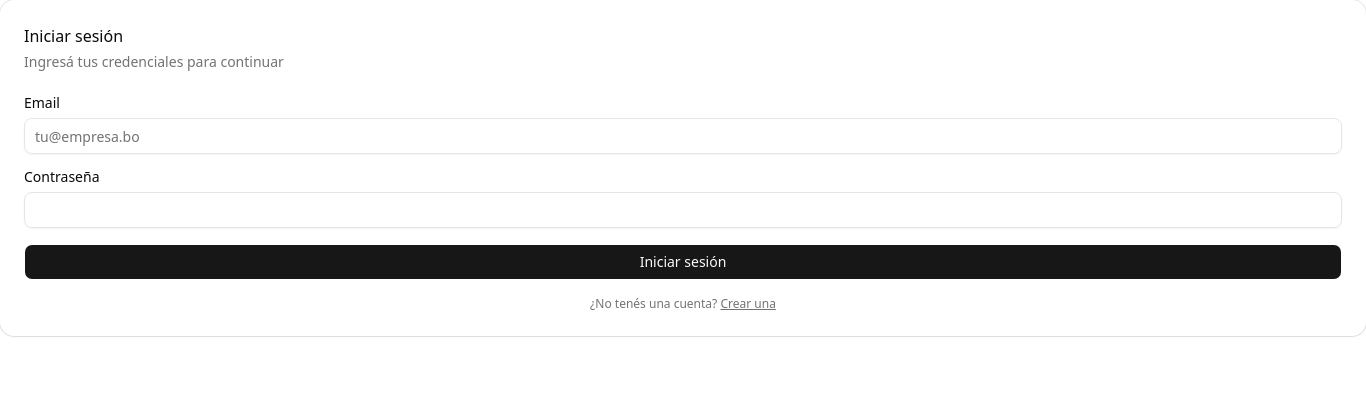
Test: LoginForm › muestra error de validación si el email está vacío
Click the button "Iniciar sesión".
click(683, 262)  # box [24, 244, 1342, 280]
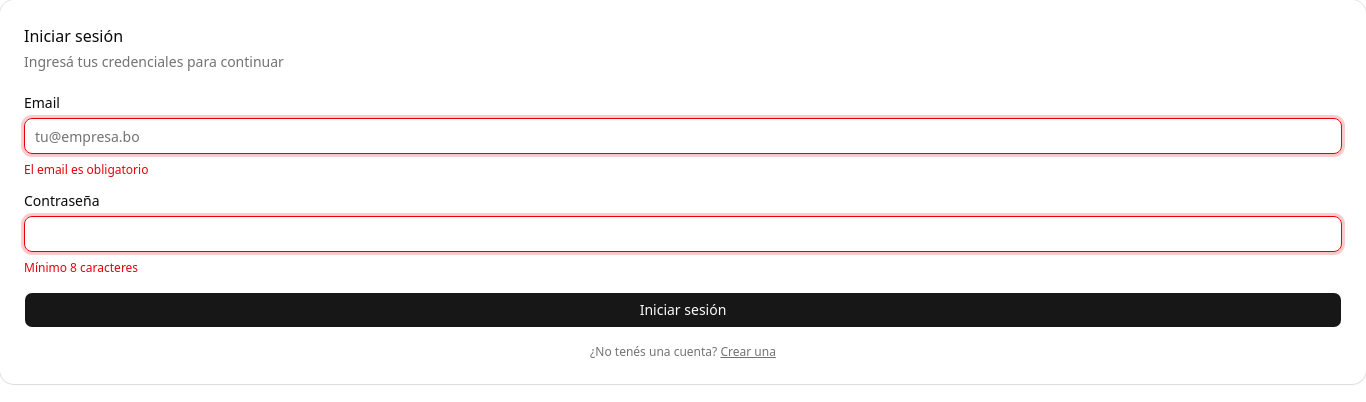
expect the text "El email es obligatorio" is shown: met, box [24, 161, 148, 178]
